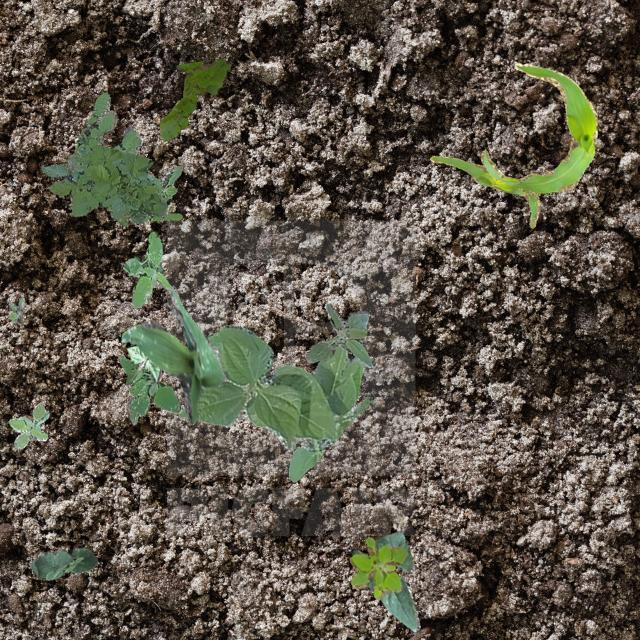crop: (176, 324, 374, 481), (428, 62, 596, 226), (120, 286, 226, 422), (352, 530, 419, 630), (29, 546, 96, 578), (124, 344, 160, 384)
weed: (72, 91, 182, 220), (40, 144, 166, 225), (158, 58, 230, 140), (116, 354, 180, 424), (306, 303, 374, 367), (121, 230, 170, 308), (348, 536, 406, 598), (8, 402, 48, 448), (8, 296, 24, 324)
